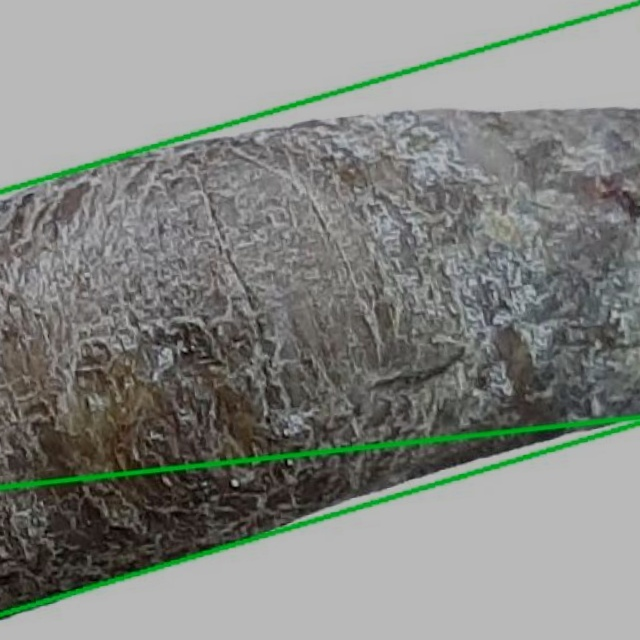Eczema: (0, 2, 639, 614), (0, 417, 639, 639)
